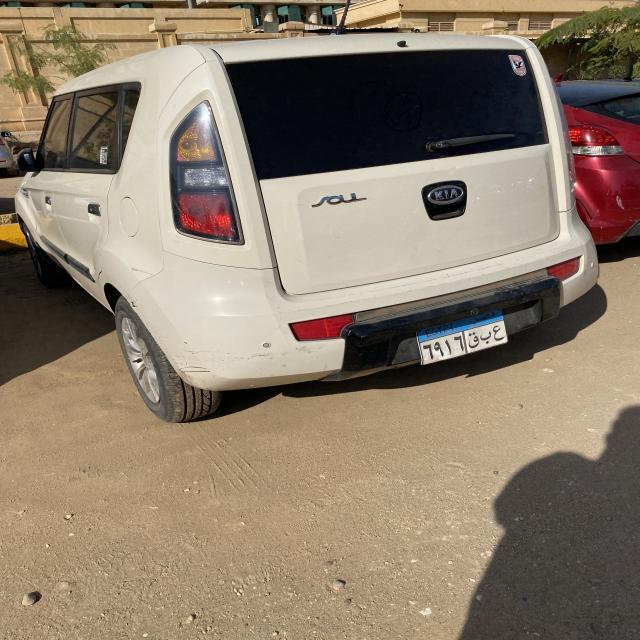License Plate: (416, 309, 509, 366)
